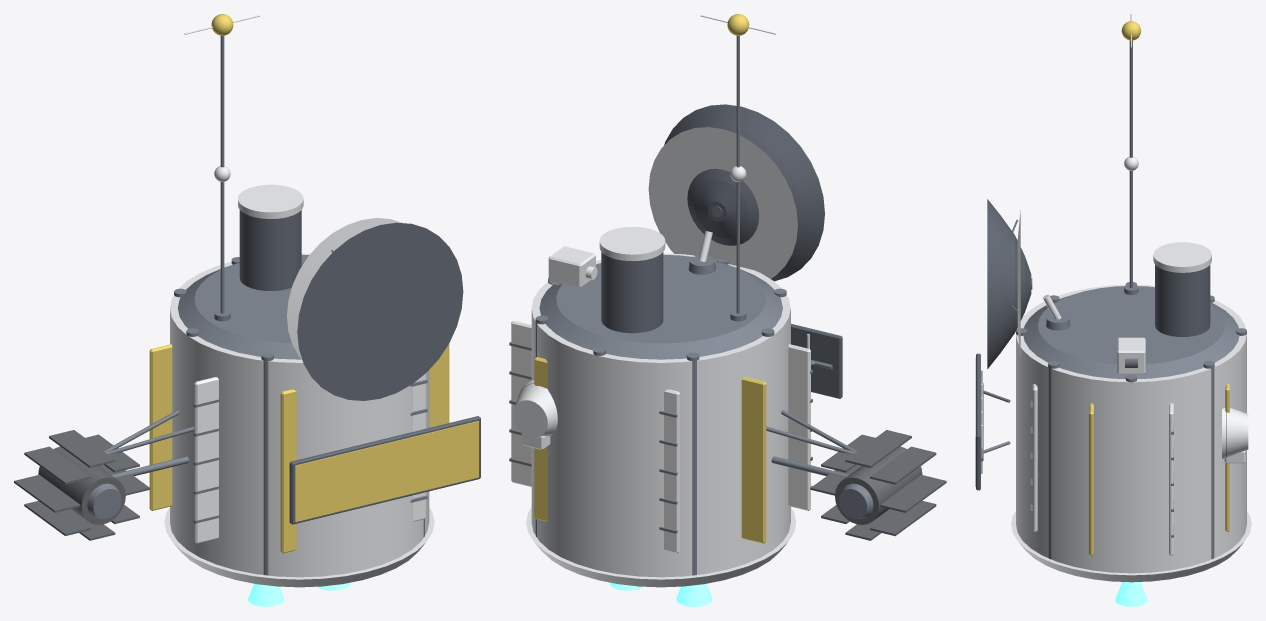
The model's file is modular_spacecraft_bus_heavy.glb.
The picture shows the model from 3 angles, left to right: view 1: azimuth 30°, elevation 25°; view 2: azimuth 150°, elevation 25°; view 3: azimuth 270°, elevation 25°; orthographic projection. The views are drawn at different scales.
Visible parts, largest first — view 1: Spacecraft_WhippleShieldAlloy, Spacecraft_CarbonCompositeStructure, Spacecraft_GoldKaptonMLI, Spacecraft_AnodizedHardwareAndTruss, Spacecraft_RTG_CeramicHeatFins, Spacecraft_ThermalRadiatorPanels, Spacecraft_IonBeamPlasmaGlow; view 2: Spacecraft_WhippleShieldAlloy, Spacecraft_AnodizedHardwareAndTruss, Spacecraft_CarbonCompositeStructure, Spacecraft_ThermalRadiatorPanels, Spacecraft_RTG_CeramicHeatFins, Spacecraft_GoldKaptonMLI, Spacecraft_IonBeamPlasmaGlow; view 3: Spacecraft_WhippleShieldAlloy, Spacecraft_AnodizedHardwareAndTruss, Spacecraft_CarbonCompositeStructure, Spacecraft_GoldKaptonMLI, Spacecraft_ThermalRadiatorPanels, Spacecraft_IonBeamPlasmaGlow.
Boxes of the visible parts, x1,y1,x2,y2 form: Spacecraft_WhippleShieldAlloy: (164,15,434,587); Spacecraft_CarbonCompositeStructure: (239,210,480,524); Spacecraft_GoldKaptonMLI: (149,14,478,553); Spacecraft_AnodizedHardwareAndTruss: (87,36,427,575); Spacecraft_RTG_CeramicHeatFins: (14,430,149,540); Spacecraft_ThermalRadiatorPanels: (194,373,426,543); Spacecraft_IonBeamPlasmaGlow: (248,582,350,606); Spacecraft_WhippleShieldAlloy: (513,15,809,587); Spacecraft_AnodizedHardwareAndTruss: (509,35,873,575); Spacecraft_CarbonCompositeStructure: (601,104,842,398); Spacecraft_ThermalRadiatorPanels: (511,266,810,553); Spacecraft_RTG_CeramicHeatFins: (810,430,946,540); Spacecraft_GoldKaptonMLI: (534,14,766,543); Spacecraft_IonBeamPlasmaGlow: (610,582,712,606); Spacecraft_WhippleShieldAlloy: (981,14,1251,582); Spacecraft_AnodizedHardwareAndTruss: (981,40,1246,559); Spacecraft_CarbonCompositeStructure: (976,199,1210,490); Spacecraft_GoldKaptonMLI: (975,21,1229,555); Spacecraft_ThermalRadiatorPanels: (1032,383,1173,555); Spacecraft_IonBeamPlasmaGlow: (1115,582,1147,606).
Bounding box in the file's own units: 4.97 × 7.19 × 3.4.
